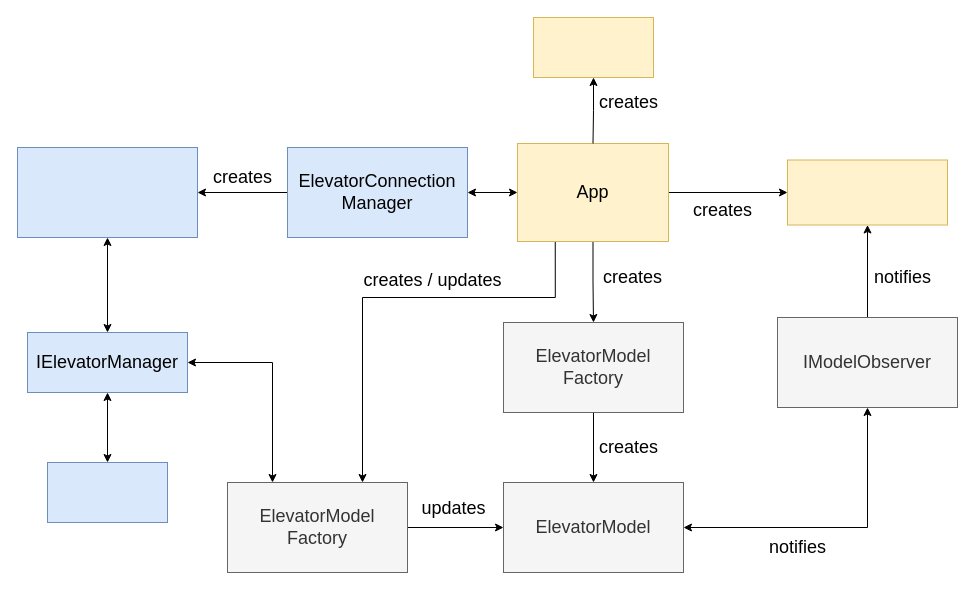
The diagram is 975 pixels wide and 590 high, and some of its shapes have lost their labels. Each missing label, with the centre of its shape:
"EccGuiUpdater" goes at [867,192].
"EccLayout" goes at [593,47].
"ElevatorHardware Manager" goes at [107,192].
"IElevator" goes at [107,492].
